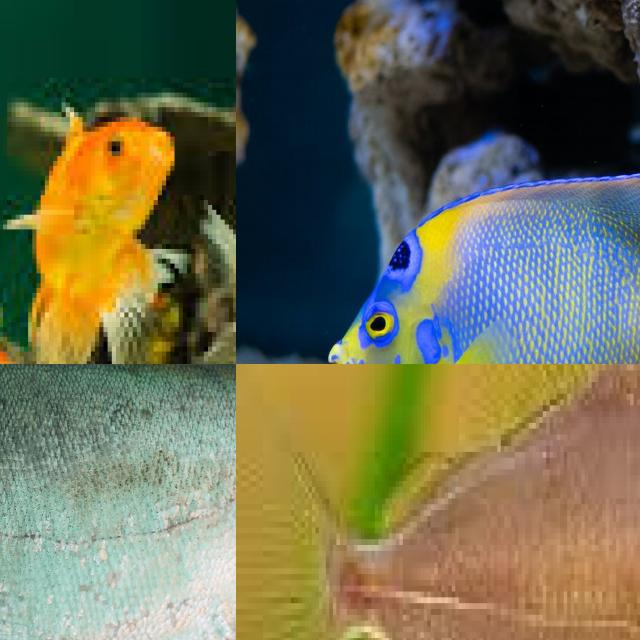fish: (236, 0, 640, 364), (0, 0, 236, 364), (0, 364, 236, 640), (348, 486, 640, 640)
